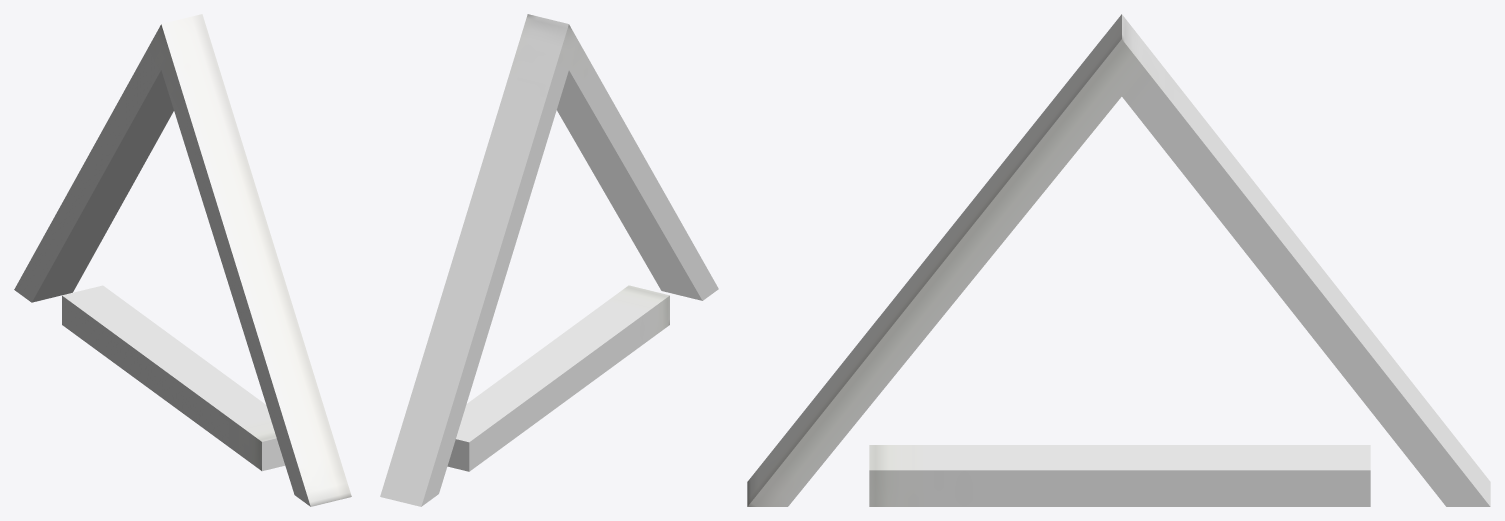
Rendered from trangle.dae.
The picture shows the model from 3 angles, left to right: view 1: azimuth 30°, elevation 25°; view 2: azimuth 150°, elevation 25°; view 3: azimuth 270°, elevation 25°; orthographic projection. The views are drawn at different scales.
Parts seen in each view (by area): view 1: SketchUp_001; view 2: SketchUp_001; view 3: SketchUp_001.
Part boxes in pixels (x1=…): SketchUp_001: x1=14, y1=14, x2=351, y2=506; SketchUp_001: x1=380, y1=14, x2=718, y2=506; SketchUp_001: x1=747, y1=14, x2=1490, y2=506.
Size of the model in its own units: 0.0751 by 0.9386 by 0.652.
Materials: 1 (1 with a texture image).
